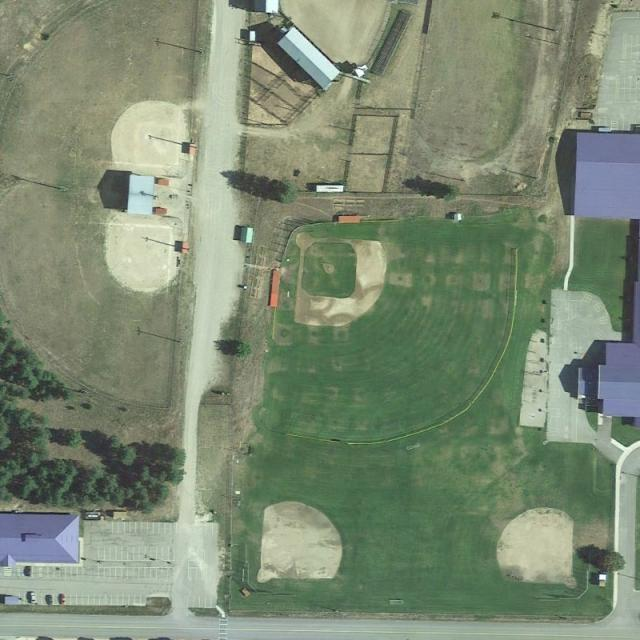vehicle: (46, 593, 53, 606), (59, 592, 66, 605), (29, 591, 36, 602), (25, 566, 32, 577)
